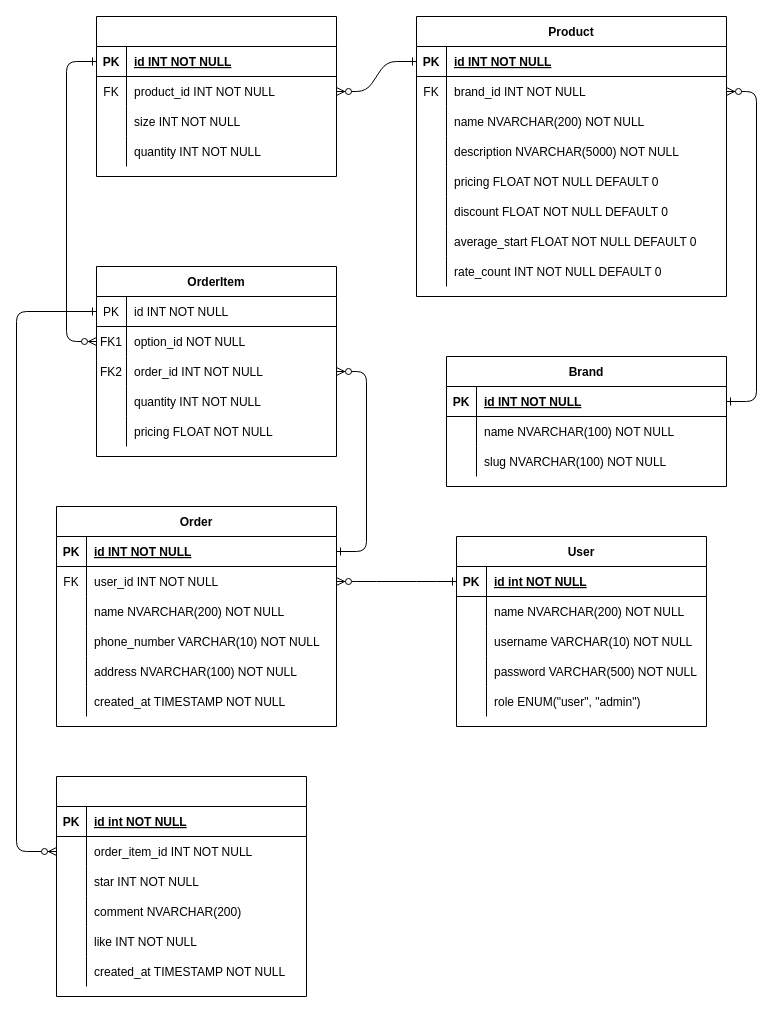
This 773x1013 diagram has some shape labels left out. The box of each missing label's shape, as (x1, y1, x2, y2) in pixels:
Option: (96, 16, 336, 176)
Rate: (56, 776, 306, 996)
